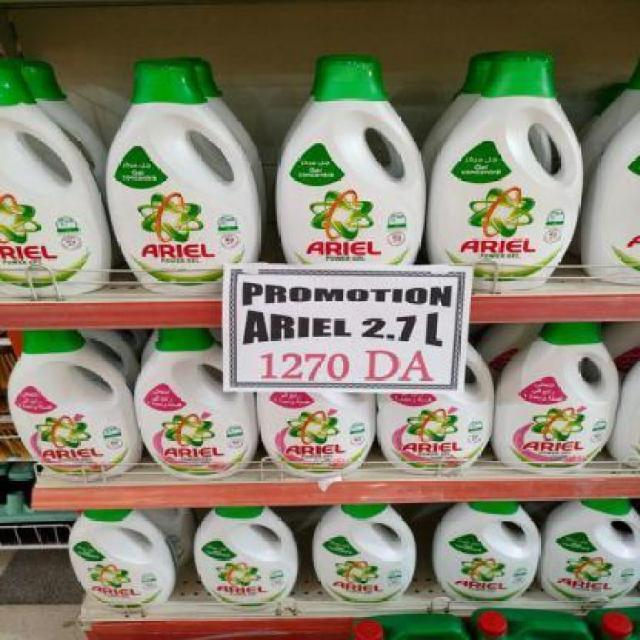Detergent: (272, 43, 430, 272), (100, 67, 256, 296), (435, 43, 583, 283), (0, 66, 109, 295), (492, 295, 615, 469), (129, 314, 255, 478), (3, 333, 132, 481), (380, 361, 502, 472), (305, 496, 423, 602), (71, 498, 180, 610), (188, 505, 305, 609), (537, 488, 639, 602), (429, 494, 537, 600), (255, 385, 377, 477)
